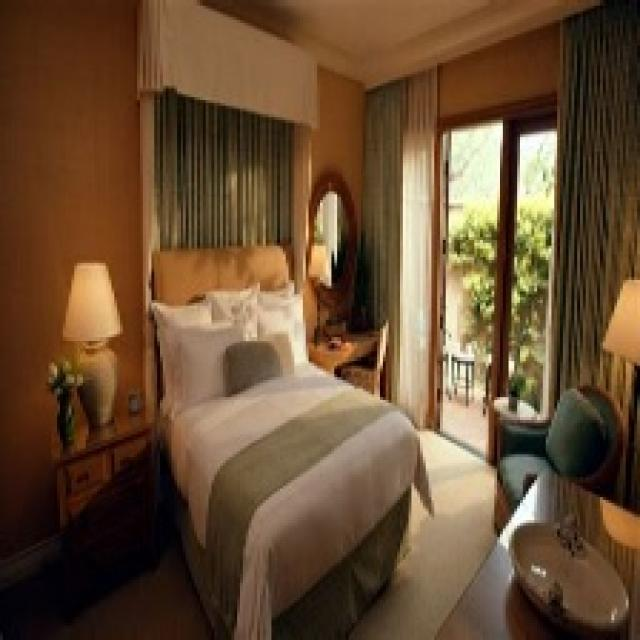Bed: (146, 243, 431, 637)
